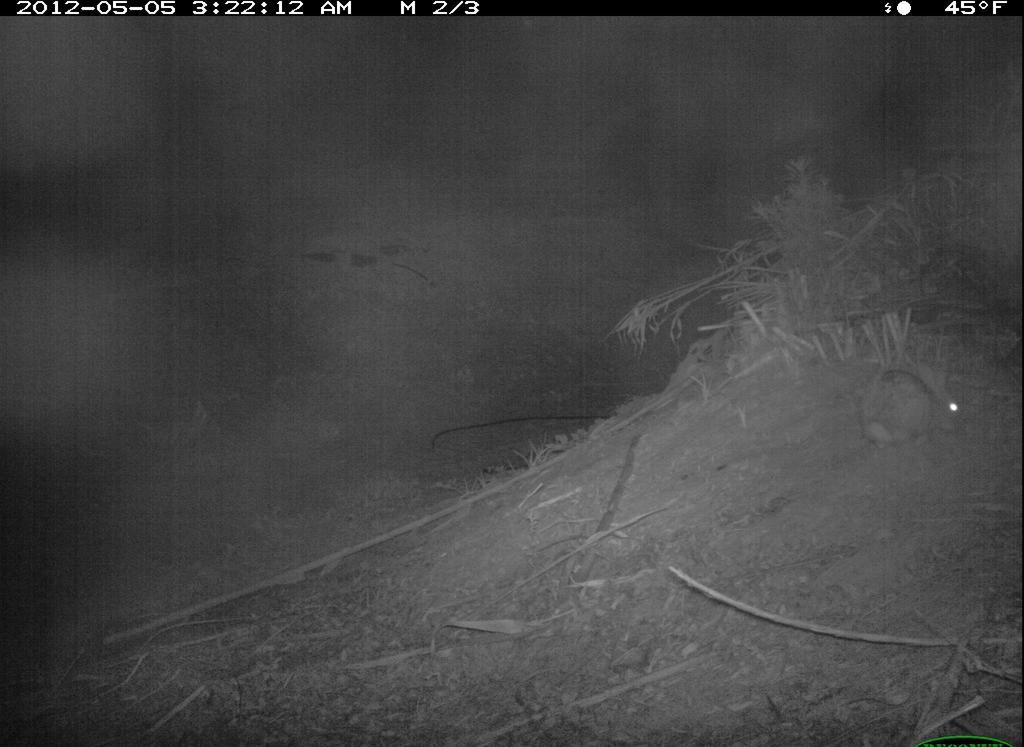rabbit: (858, 359, 971, 464)
